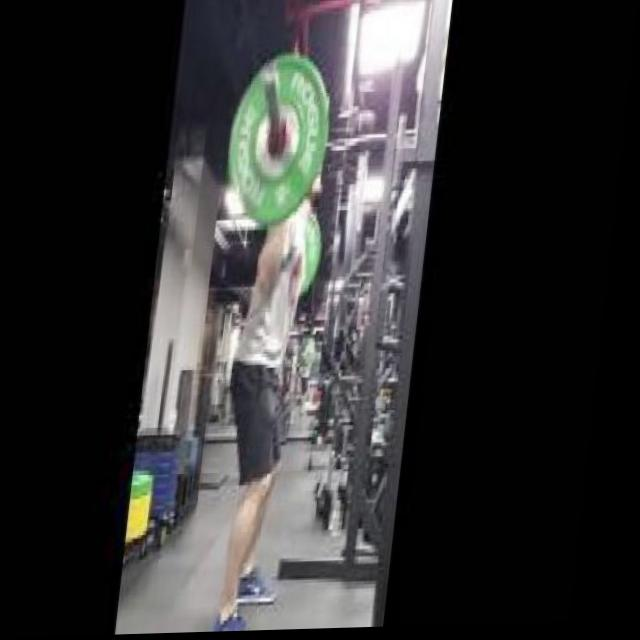barbell: (212, 45, 345, 234)
